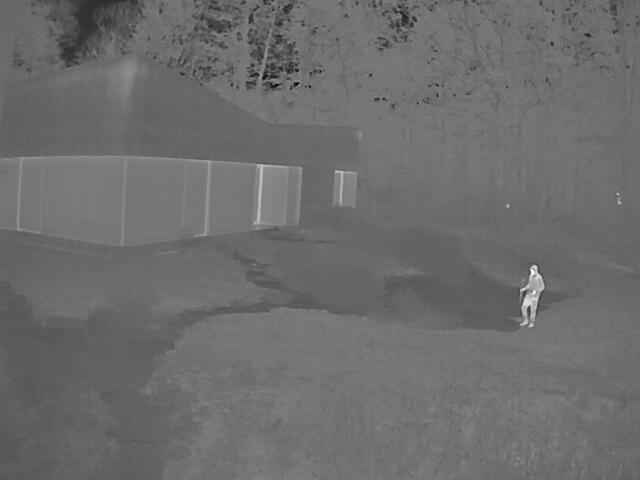person: (513, 263, 544, 327)
